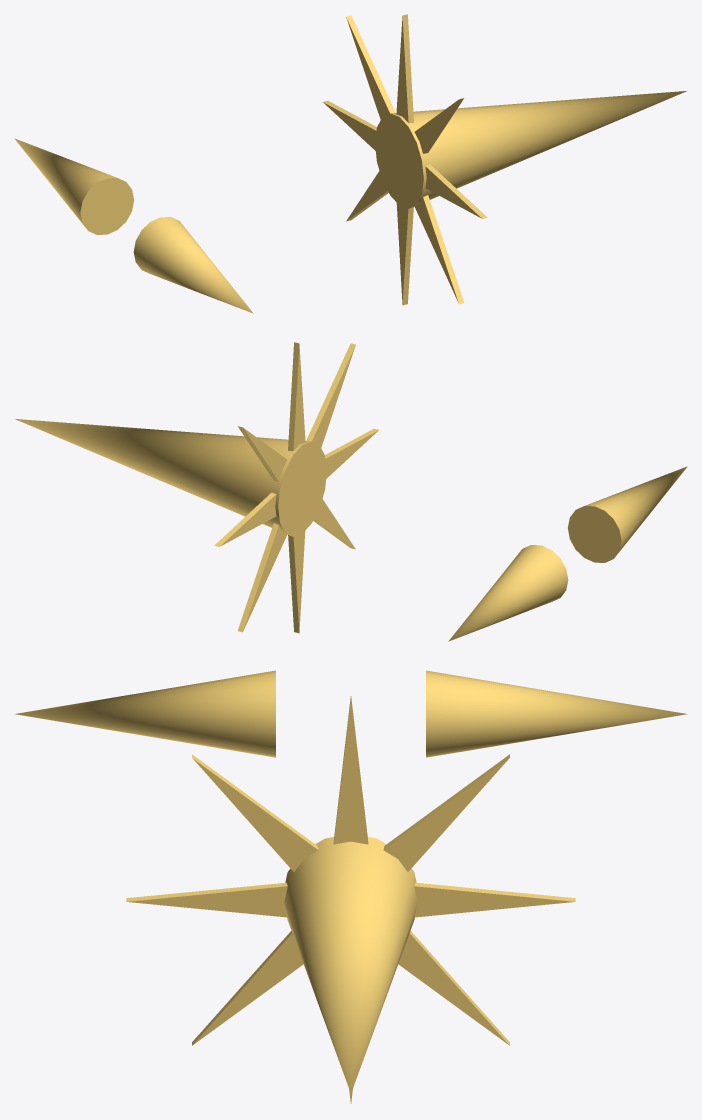
Rendered from clarao.obj.
3 renders of one model, top to bottom at view 1: azimuth 30°, elevation 25°; view 2: azimuth 150°, elevation 25°; view 3: azimuth 270°, elevation 25°, orthographic. The views are drawn at different scales.
Bounding box in the file's own units: 0.604 × 0.288 × 0.432.
